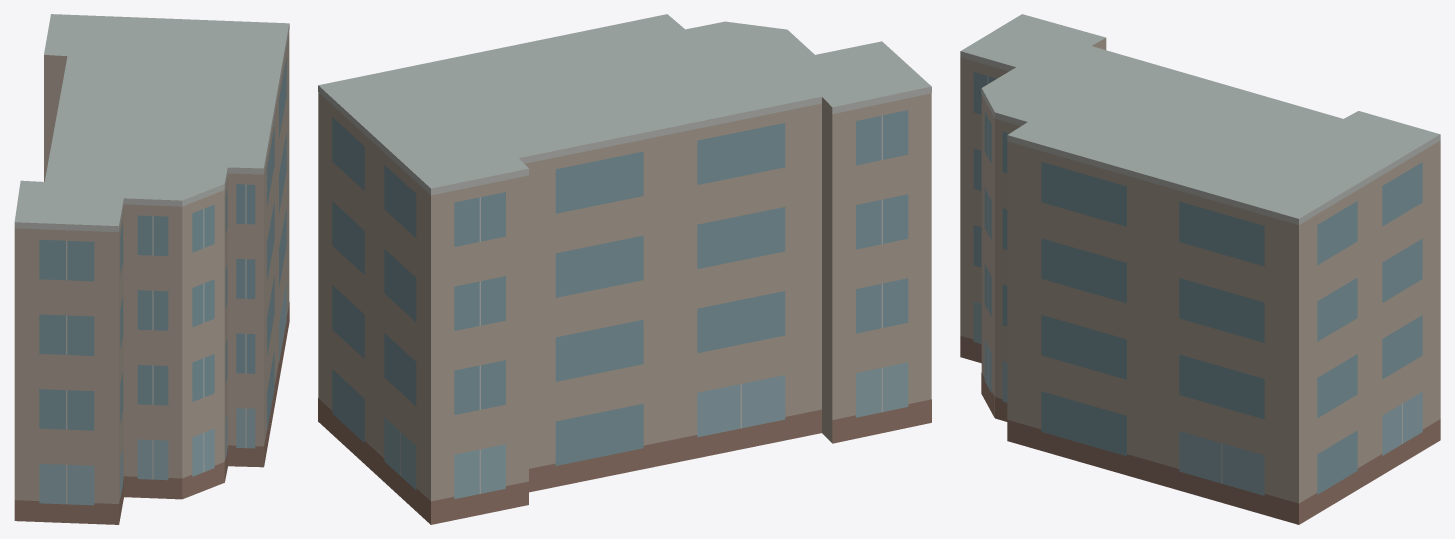
The model's file is survey-upis-32996927.glb.
The picture shows the model from 3 angles, left to right: view 1: azimuth 30°, elevation 25°; view 2: azimuth 150°, elevation 25°; view 3: azimuth 270°, elevation 25°; orthographic projection. The views are drawn at different scales.
Visible parts, largest first — view 1: survey-upis-32996927.tmp; view 2: survey-upis-32996927.tmp; view 3: survey-upis-32996927.tmp.
Boxes of the visible parts, <box> form: survey-upis-32996927.tmp: <box>14,14,289,524</box>; survey-upis-32996927.tmp: <box>318,14,931,524</box>; survey-upis-32996927.tmp: <box>960,14,1440,524</box>.
Size of the model in its own units: 17.39 by 12.1 by 17.21.
